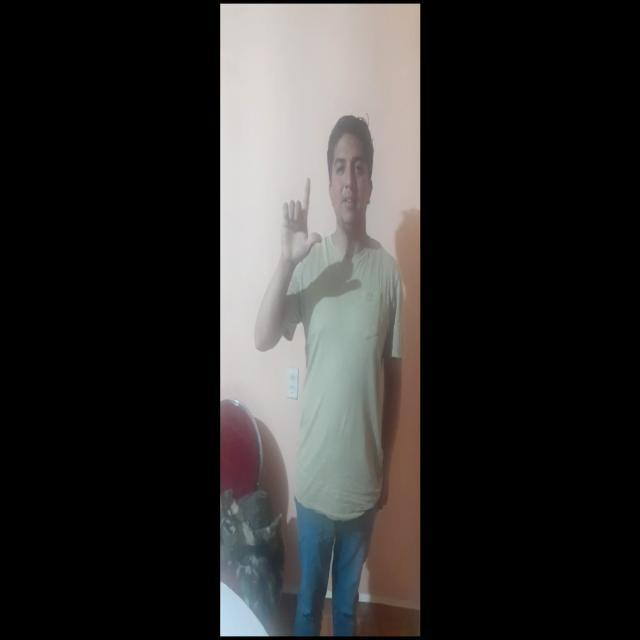L: (278, 172, 325, 268)
